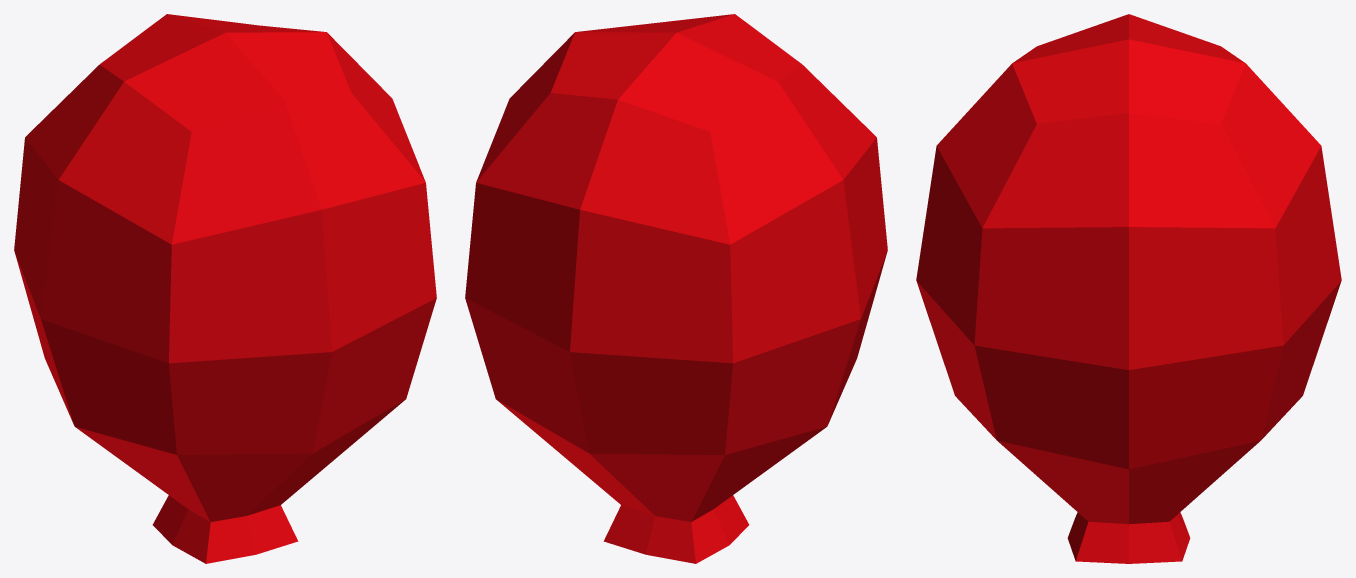
The model's file is globo.fbx.
3 views of the same model, side by side, from view 1: azimuth 30°, elevation 25°; view 2: azimuth 150°, elevation 25°; view 3: azimuth 270°, elevation 25° (orthographic).
Parts seen in each view (by area): view 1: globo; view 2: globo; view 3: globo.
Boxes of the visible parts, <box> form: globo: <box>14,14,436,563</box>; globo: <box>465,14,887,563</box>; globo: <box>916,14,1341,563</box>.
Bounding box in the file's own units: 8.94 × 11.62 × 8.94.
